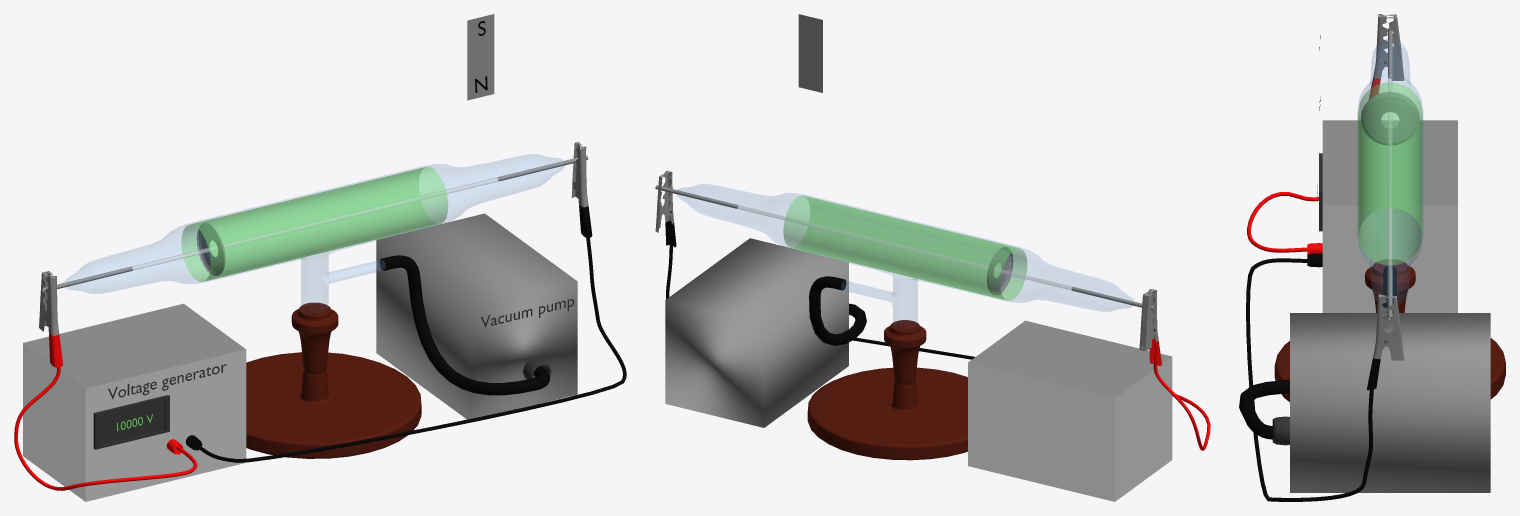
File: cathode__ray_tube_thomsons_experiment.glb
3 renders of one model, left to right at view 1: azimuth 30°, elevation 25°; view 2: azimuth 150°, elevation 25°; view 3: azimuth 270°, elevation 25°, orthographic. The views are drawn at different scales.
Parts seen in each view (by area): view 1: Voltage generator_6, Vacuum pump_11, Glass Tube_0, Stand_1, Phosphorescent background_13, BezierCurve.002_10, Wire_9, Magnet_12, Visible cathode ray_4, Crocodile clip R_8, Wire _7, Crocodile clip L_5 (+1 smaller); view 2: Voltage generator_6, Vacuum pump_11, Glass Tube_0, Stand_1, Phosphorescent background_13, Magnet_12, BezierCurve.002_10, Visible cathode ray_4, Crocodile clip R_8, Crocodile clip L_5, Split_14, Wire _7 (+1 smaller); view 3: Vacuum pump_11, Voltage generator_6, Glass Tube_0, Phosphorescent background_13, Stand_1, Split_14, Wire_9, BezierCurve.002_10, Crocodile clip L_5, Crocodile clip R_8, Visible cathode ray_4, Wire _7.
Boxes of the visible parts, x1,y1,x2,y2 form: Voltage generator_6: [23, 303, 246, 501]; Vacuum pump_11: [376, 213, 577, 419]; Glass Tube_0: [65, 154, 564, 311]; Stand_1: [246, 302, 421, 458]; Phosphorescent background_13: [181, 167, 447, 281]; BezierCurve.002_10: [379, 255, 549, 395]; Wire_9: [194, 238, 626, 462]; Magnet_12: [467, 14, 494, 100]; Visible cathode ray_4: [132, 177, 498, 270]; Crocodile clip R_8: [39, 271, 62, 367]; Wire _7: [14, 367, 197, 490]; Crocodile clip L_5: [571, 141, 592, 237]; Voltage generator_6: [968, 320, 1172, 501]; Vacuum pump_11: [665, 238, 848, 427]; Glass Tube_0: [677, 184, 1133, 326]; Stand_1: [807, 320, 967, 460]; Phosphorescent background_13: [783, 195, 1026, 300]; Magnet_12: [798, 14, 822, 92]; BezierCurve.002_10: [809, 276, 866, 345]; Visible cathode ray_4: [737, 205, 1072, 290]; Crocodile clip R_8: [1139, 289, 1161, 365]; Crocodile clip L_5: [655, 171, 676, 247]; Split_14: [987, 247, 1013, 295]; Wire _7: [1153, 356, 1210, 450]; Vacuum pump_11: [1272, 313, 1490, 492]; Voltage generator_6: [1307, 120, 1457, 312]; Glass Tube_0: [1357, 38, 1423, 307]; Phosphorescent background_13: [1358, 82, 1422, 264]; Stand_1: [1274, 259, 1505, 402]; Split_14: [1361, 91, 1419, 145]; Wire_9: [1246, 258, 1373, 501]; BezierCurve.002_10: [1239, 265, 1396, 439]; Crocodile clip L_5: [1367, 294, 1404, 390]; Crocodile clip R_8: [1369, 14, 1404, 99]; Visible cathode ray_4: [1388, 75, 1392, 269]; Wire _7: [1247, 192, 1318, 252].
Size of the model in its own units: 10.77 by 6.85 by 3.94.
